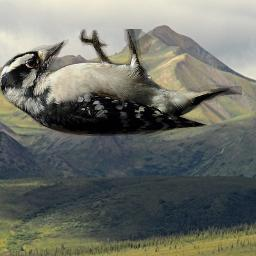Woodpecker: (0, 29, 242, 136)
